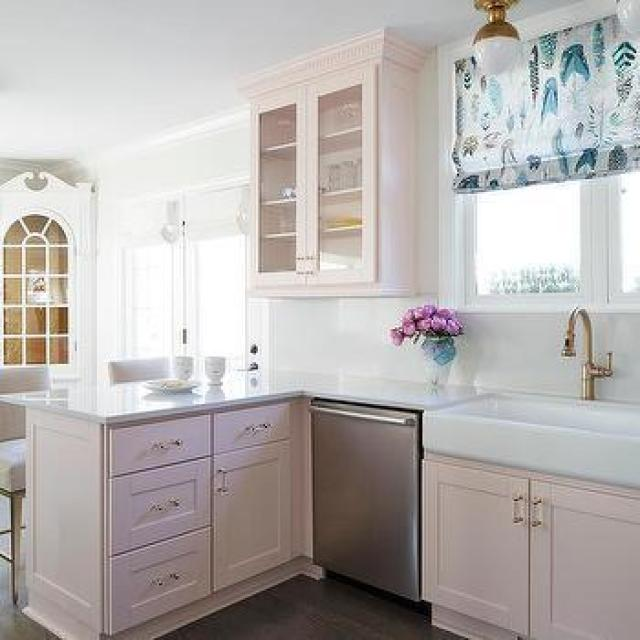dishwasher: (305, 389, 431, 612)
